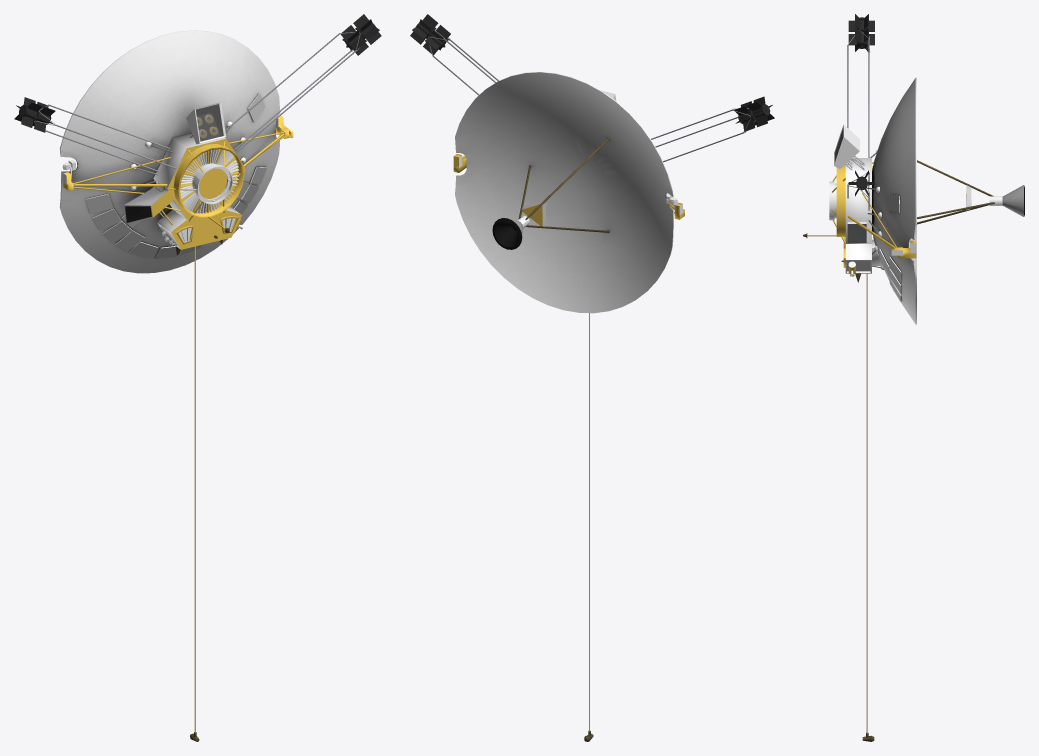
File: pioneer.gltf
3 views of the same model, side by side, from view 1: azimuth 30°, elevation 25°; view 2: azimuth 150°, elevation 25°; view 3: azimuth 270°, elevation 25° (orthographic). The views are drawn at different scales.
Parts seen in each view (by area): view 1: AO_dish, foil_gold, tex_01, silver, normal_silver, Pioneer, AO_rtg, alpha; view 2: AO_dish, tex_01, AO_rtg, foil_gold; view 3: AO_dish, Pioneer, foil_gold, tex_01, silver, AO_rtg, normal_silver.
Boxes of the visible parts, x1,y1,x2,y2 form: AO_dish: (59,30,280,273); foil_gold: (63,116,293,732); tex_01: (34,32,360,741); silver: (62,93,266,258); normal_silver: (86,93,267,259); Pioneer: (63,118,278,249); AO_rtg: (14,14,381,132); alpha: (196,104,223,140); AO_dish: (455,72,673,313); tex_01: (427,30,755,741); AO_rtg: (410,14,774,131); foil_gold: (453,154,684,731); AO_dish: (872,77,1023,324); Pioneer: (845,158,916,273); foil_gold: (807,162,966,733); tex_01: (803,30,1024,741); silver: (829,124,1002,301); AO_rtg: (848,14,874,196); normal_silver: (879,194,900,301).
Bounding box in the file's own units: 4.52 × 8.24 × 2.54.
9 materials, 4 textured.
